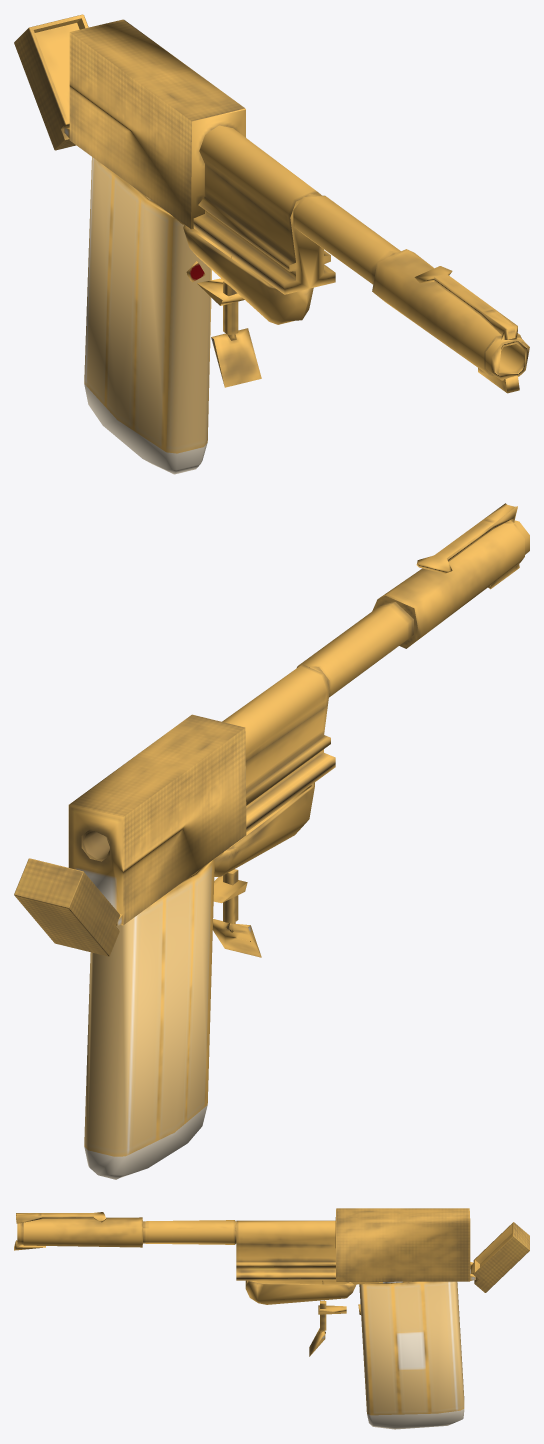
File: hw_pop_goldengun.glb
3 views of the same model, one above another, from view 1: azimuth 30°, elevation 25°; view 2: azimuth 150°, elevation 25°; view 3: azimuth 270°, elevation 25° (orthographic). The views are drawn at different scales.
Visible parts, largest first — view 1: polySurface1_blinn1_0, polySurface20_blinn1_0; view 2: polySurface1_blinn1_0, polySurface20_blinn1_0; view 3: polySurface1_blinn1_0, polySurface20_blinn1_0.
Boxes of the visible parts, x1,y1,x2,y2 form: polySurface1_blinn1_0: (64, 19, 529, 474); polySurface20_blinn1_0: (14, 14, 88, 150); polySurface1_blinn1_0: (68, 503, 529, 1179); polySurface20_blinn1_0: (14, 858, 119, 956); polySurface1_blinn1_0: (14, 1208, 475, 1429); polySurface20_blinn1_0: (470, 1222, 529, 1292).
Bounding box in the file's own units: 4.51 × 29.58 × 65.38.
Materials: 1 (1 with a texture image).
